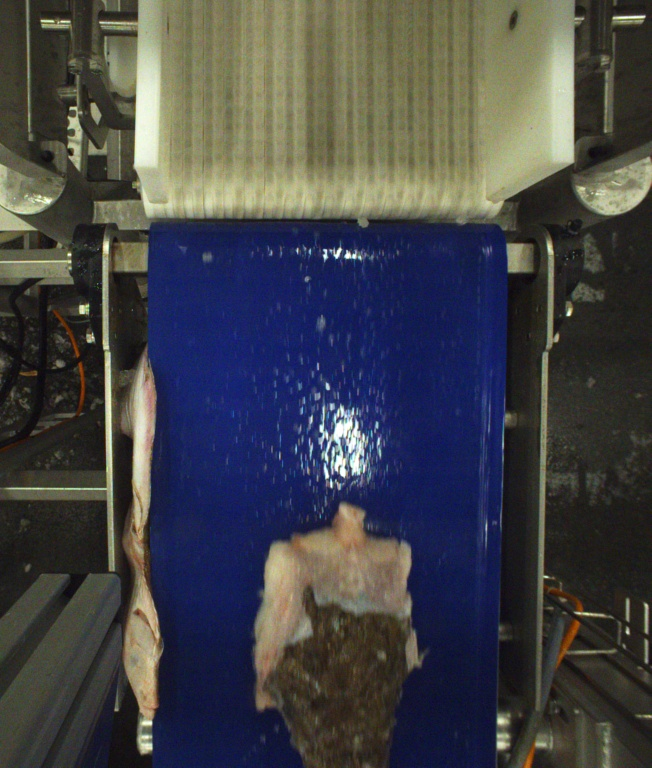ANF: (252, 505, 426, 768)
